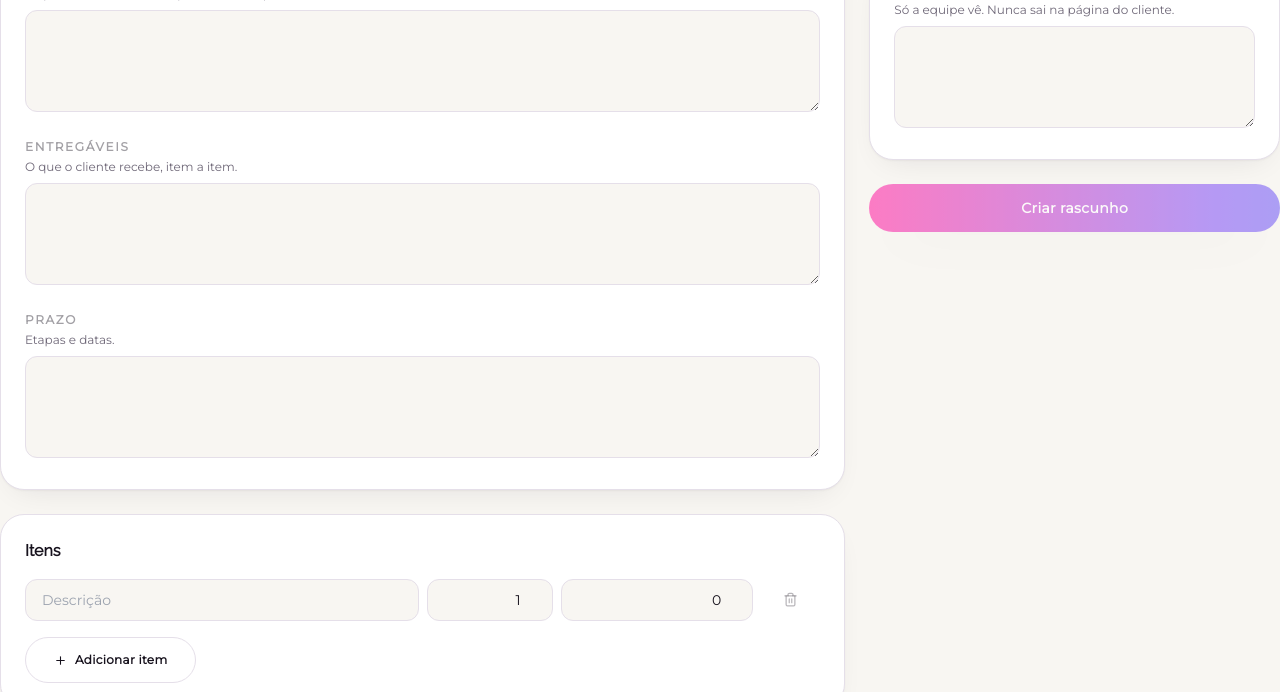
Scenario: editor de proposta › adiciona e remove linhas de item
The image size is (1280, 692).
(page scrolled)
Click the button "Adicionar item": (111, 660) left=25, top=637, right=196, bottom=683
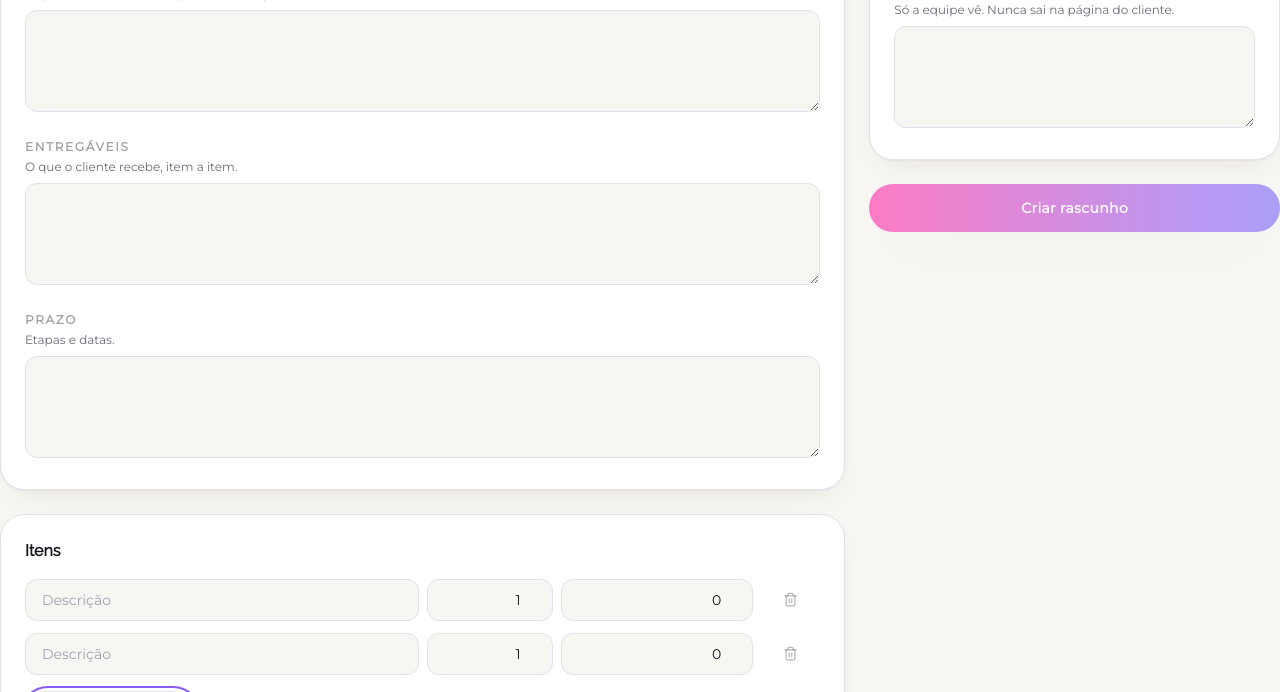
Result: the number of fields with placeholder "Descrição" is 2 at left=25, top=579, right=419, bottom=621; left=25, top=633, right=419, bottom=675
Click the button named "remover item 2": (791, 653) left=761, top=633, right=820, bottom=673
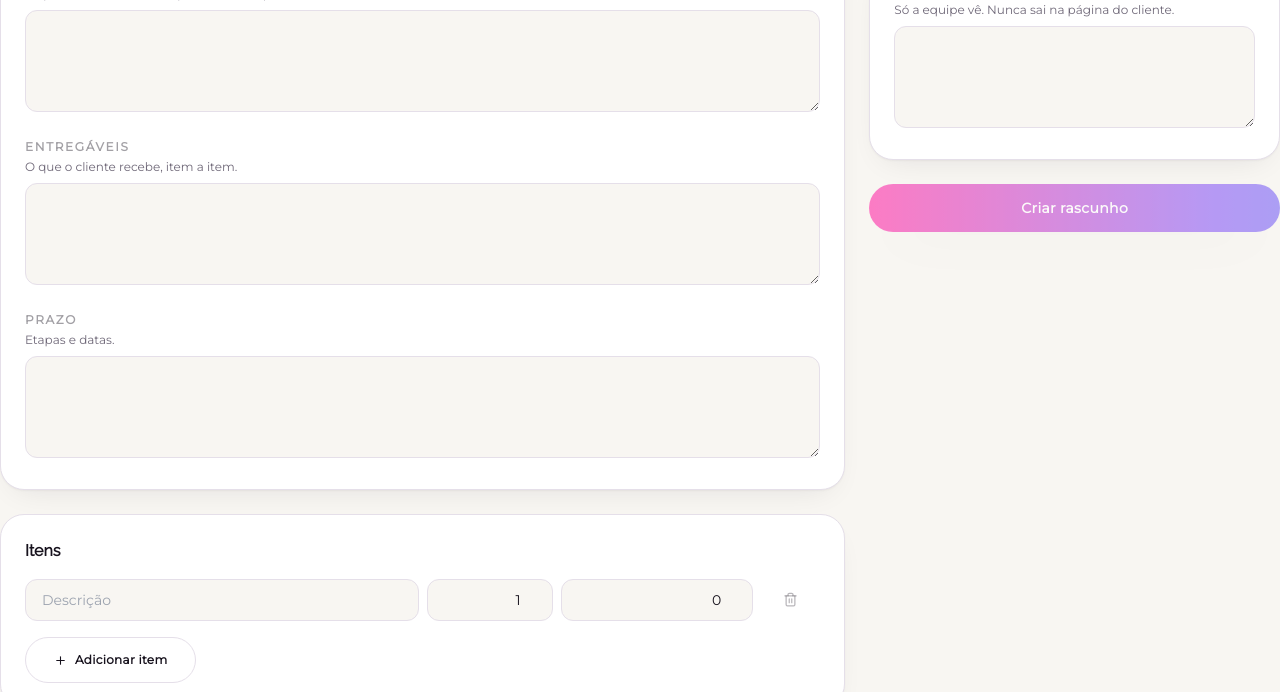
Result: the number of fields with placeholder "Descrição" is 1 at left=25, top=579, right=419, bottom=621
